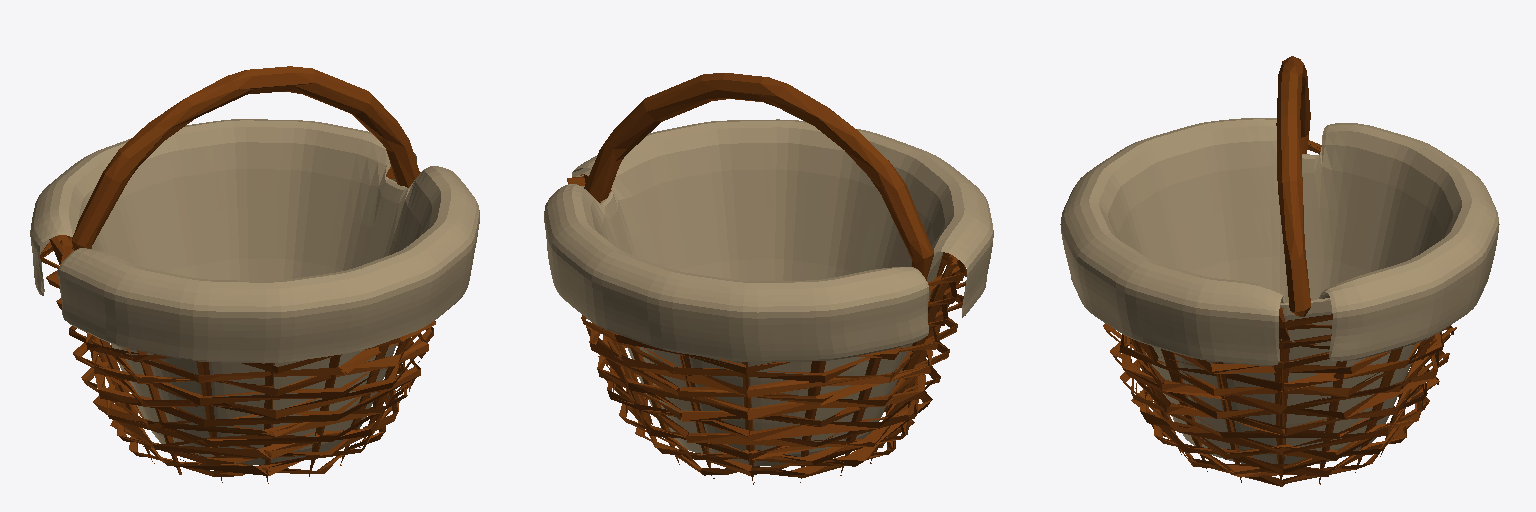
Rendered from canasta1.obj.
The picture shows the model from 3 angles: view 1: azimuth 30°, elevation 25°; view 2: azimuth 150°, elevation 25°; view 3: azimuth 270°, elevation 25°; orthographic projection.
Parts seen in each view (by area): view 1: Basket_cloth_Basketcloth_lp_0, Basket_Basket_color_0, Basker_handle_lp_Basket_handle_normal_0; view 2: Basket_cloth_Basketcloth_lp_0, Basket_Basket_color_0, Basker_handle_lp_Basket_handle_normal_0; view 3: Basket_cloth_Basketcloth_lp_0, Basket_Basket_color_0, Basker_handle_lp_Basket_handle_normal_0.
Part boxes in pixels (x1,y1,x2,y2): Basket_cloth_Basketcloth_lp_0: (30, 119, 479, 464); Basket_Basket_color_0: (40, 167, 435, 483); Basker_handle_lp_Basket_handle_normal_0: (72, 66, 419, 250); Basket_cloth_Basketcloth_lp_0: (544, 119, 993, 465); Basket_Basket_color_0: (567, 174, 966, 484); Basker_handle_lp_Basket_handle_normal_0: (584, 73, 933, 280); Basket_cloth_Basketcloth_lp_0: (1060, 118, 1499, 463); Basket_Basket_color_0: (1103, 140, 1456, 486); Basker_handle_lp_Basket_handle_normal_0: (1276, 56, 1310, 316).
Bounding box in the file's own units: 126 × 111 × 121.